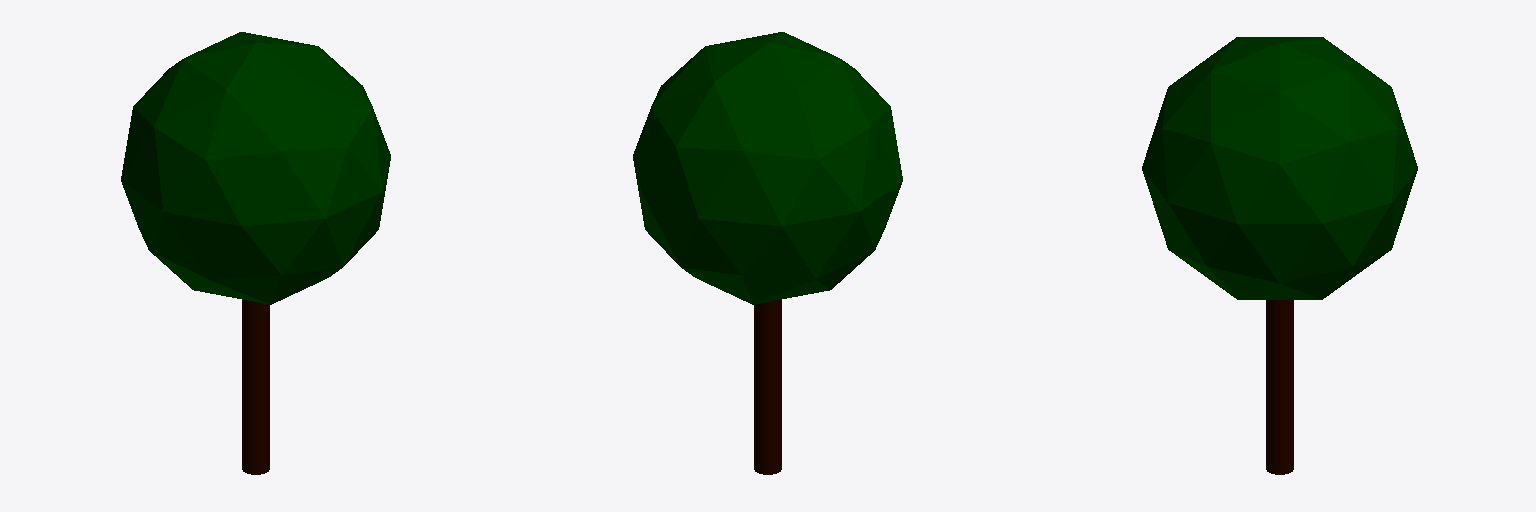
The model's file is tree.obj.
The picture shows the model from 3 angles: view 1: azimuth 30°, elevation 25°; view 2: azimuth 150°, elevation 25°; view 3: azimuth 270°, elevation 25°; orthographic projection.
Parts seen in each view (by area): view 1: Icosphere, Cylinder; view 2: Icosphere, Cylinder; view 3: Icosphere, Cylinder.
Part boxes in pixels (left/top/right/bottom): Icosphere: left=121, top=32, right=390, bottom=304; Cylinder: left=242, top=300, right=269, bottom=474; Icosphere: left=633, top=32, right=902, bottom=304; Cylinder: left=754, top=300, right=781, bottom=474; Icosphere: left=1142, top=37, right=1417, bottom=299; Cylinder: left=1266, top=300, right=1293, bottom=474.
Bounding box in the file's own units: 4.76 × 8.5 × 5.